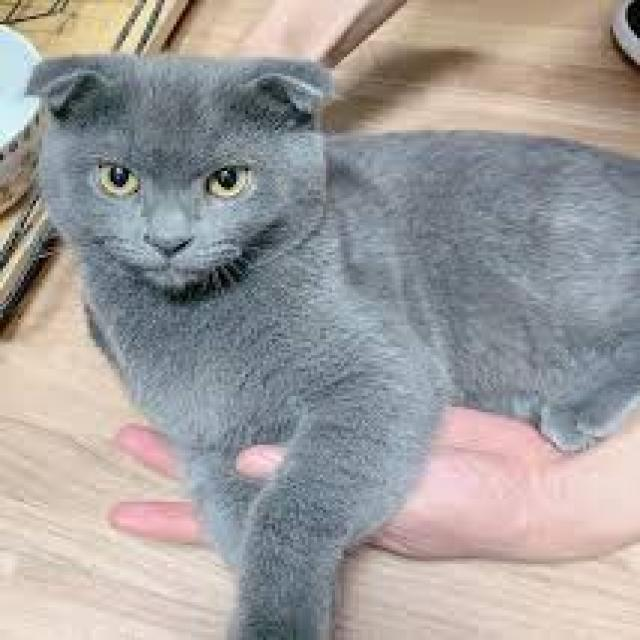cat-face: (33, 24, 435, 374)
